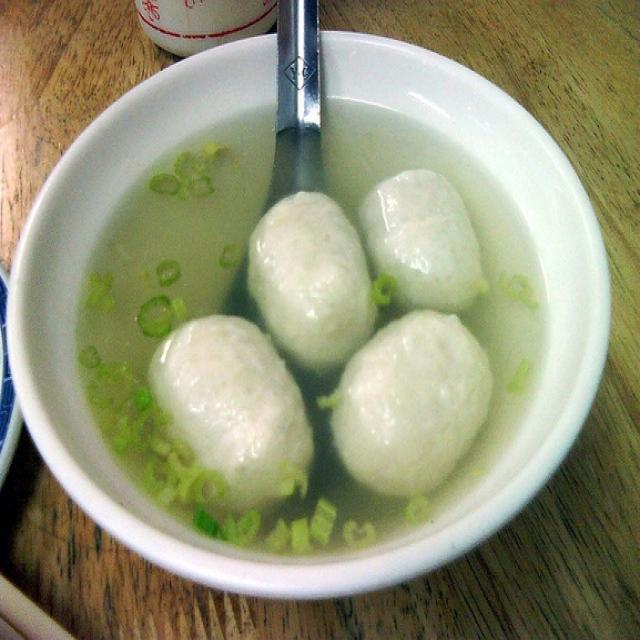熟制海鲜: (20, 40, 603, 581)
